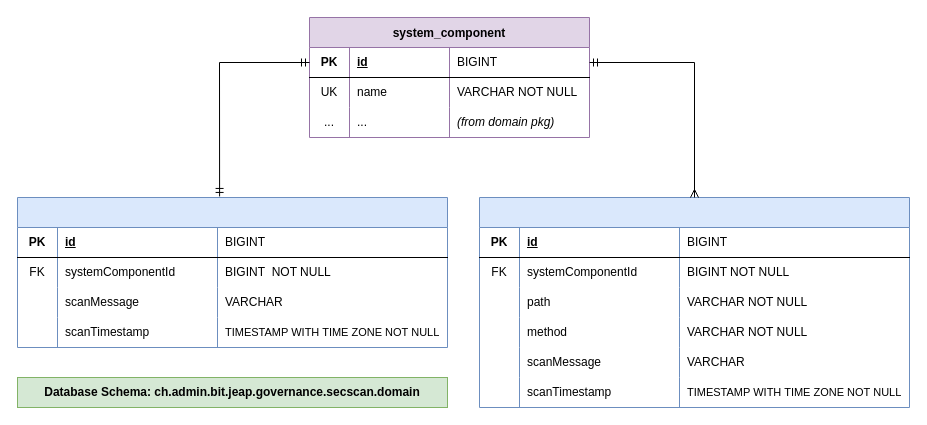
This 927x425 diagram has some shape labels left out. The shapes that lost their labels are listed below. From the top down, each one's box as (x1, y1, x2, y2) in pixels, then its label:
(16, 196, 448, 348): secscan_state
(478, 196, 910, 408): secscan_flagged_endpoint
